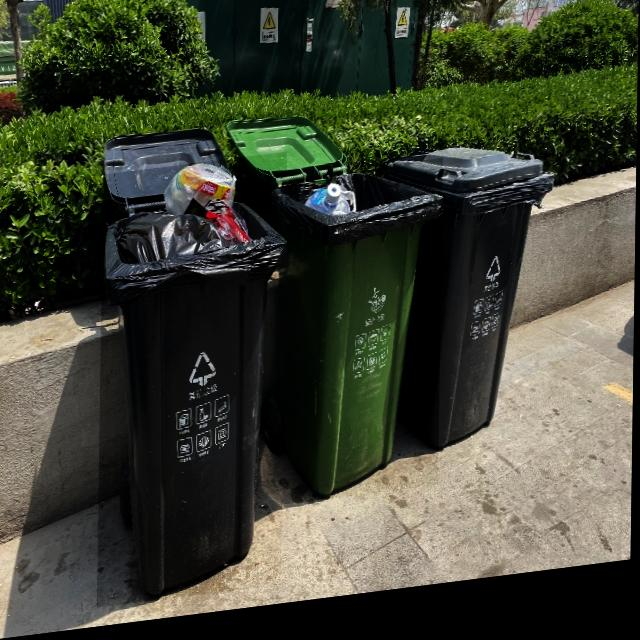garbage_bin: (383, 147, 554, 463)
overflow: (99, 159, 288, 610), (265, 170, 444, 514)
